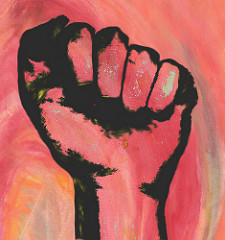fist: (28, 25, 189, 185)
